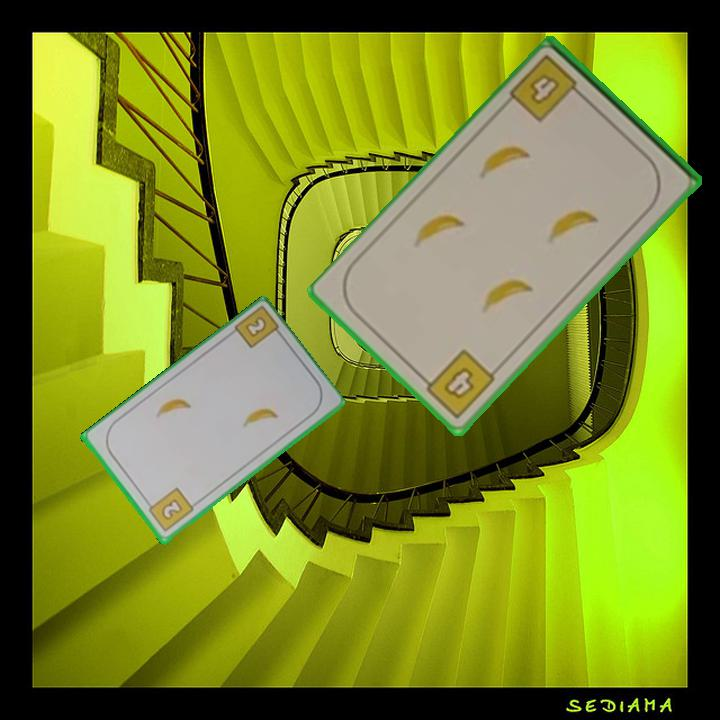2b: (142, 485, 196, 535), (230, 305, 285, 352)
4b: (417, 345, 498, 422), (506, 51, 589, 126)
